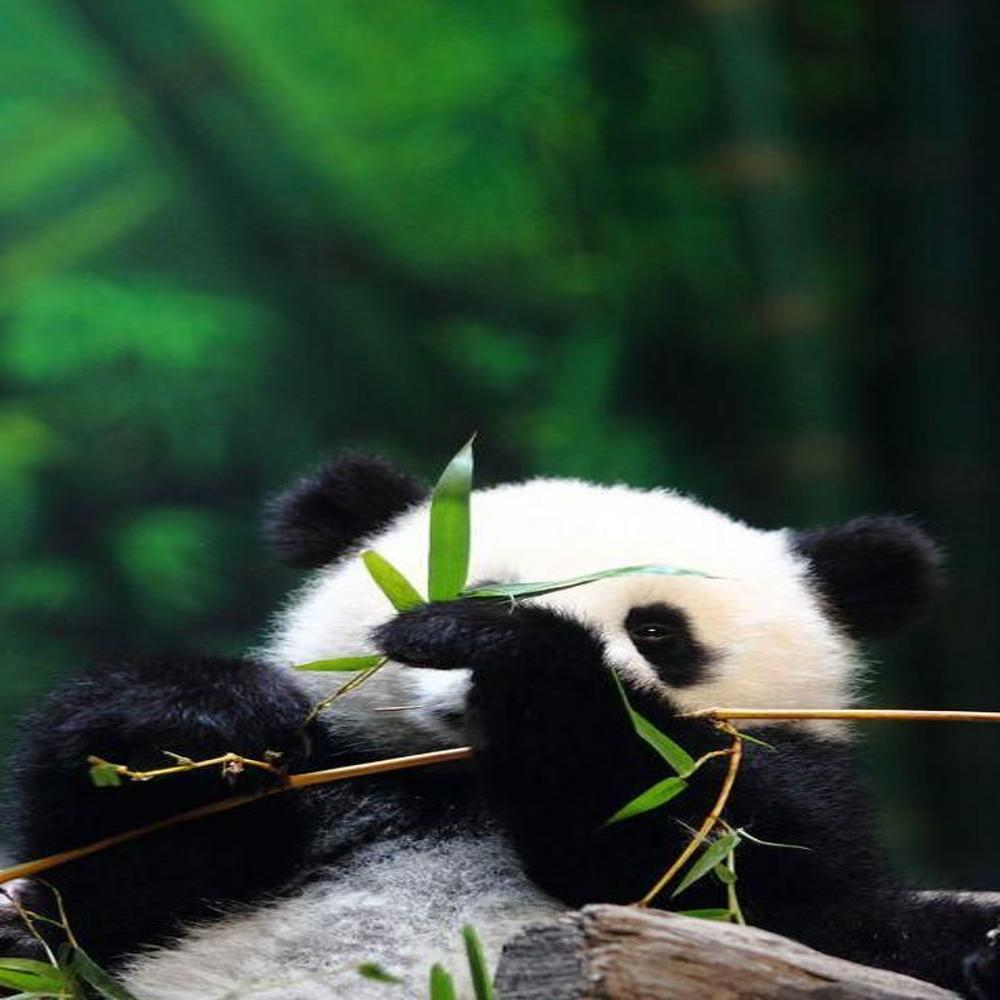panda: (6, 460, 947, 991)
